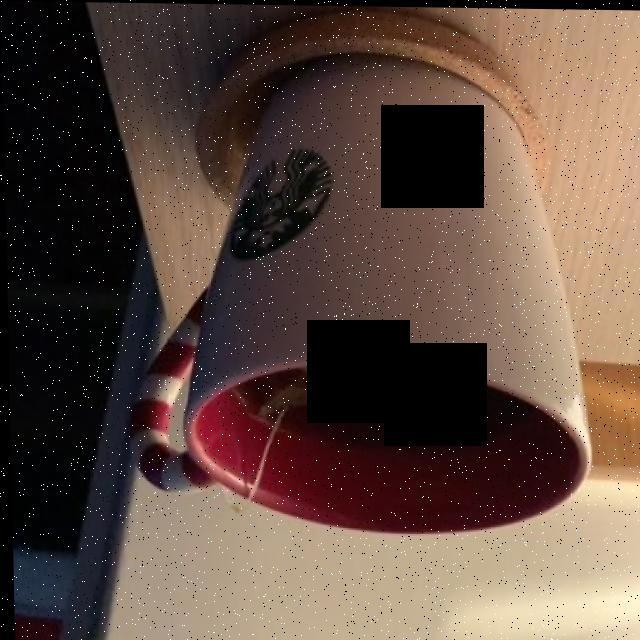tea: (236, 363, 529, 453)
